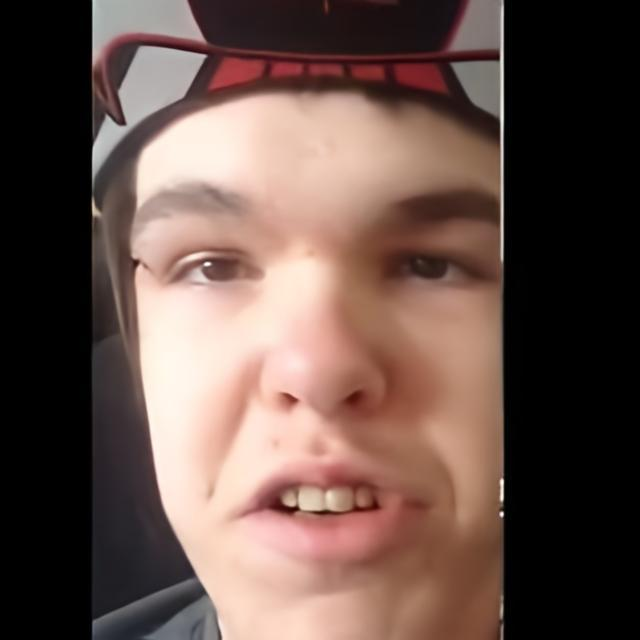disgust: (127, 72, 500, 640)
